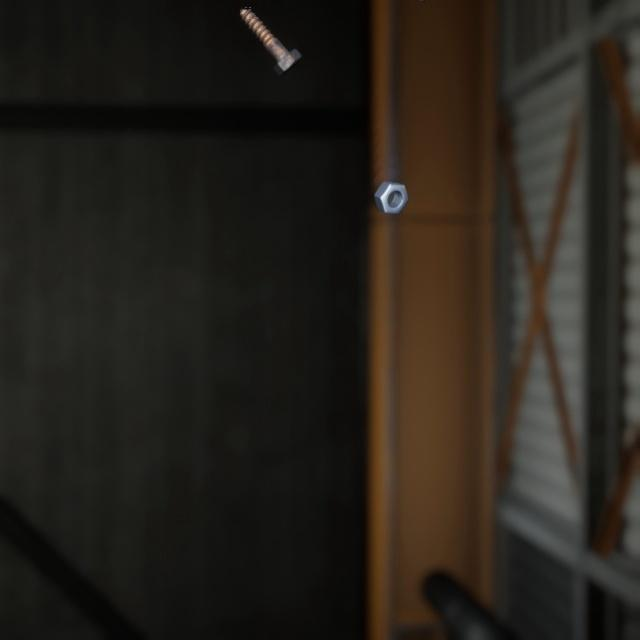bolt: (235, 0, 306, 70)
nut: (369, 163, 412, 204)
